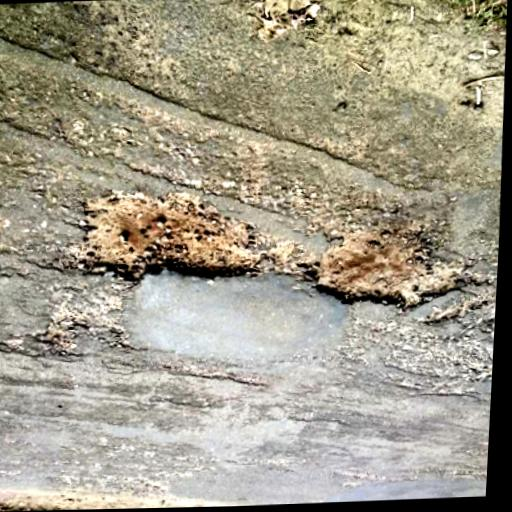pothole: (69, 184, 283, 289), (295, 224, 474, 317)
